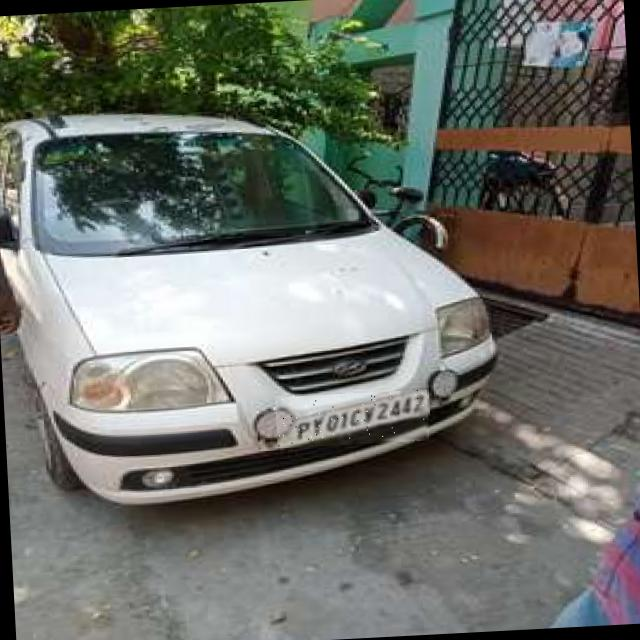Plate: (276, 391, 430, 450)
